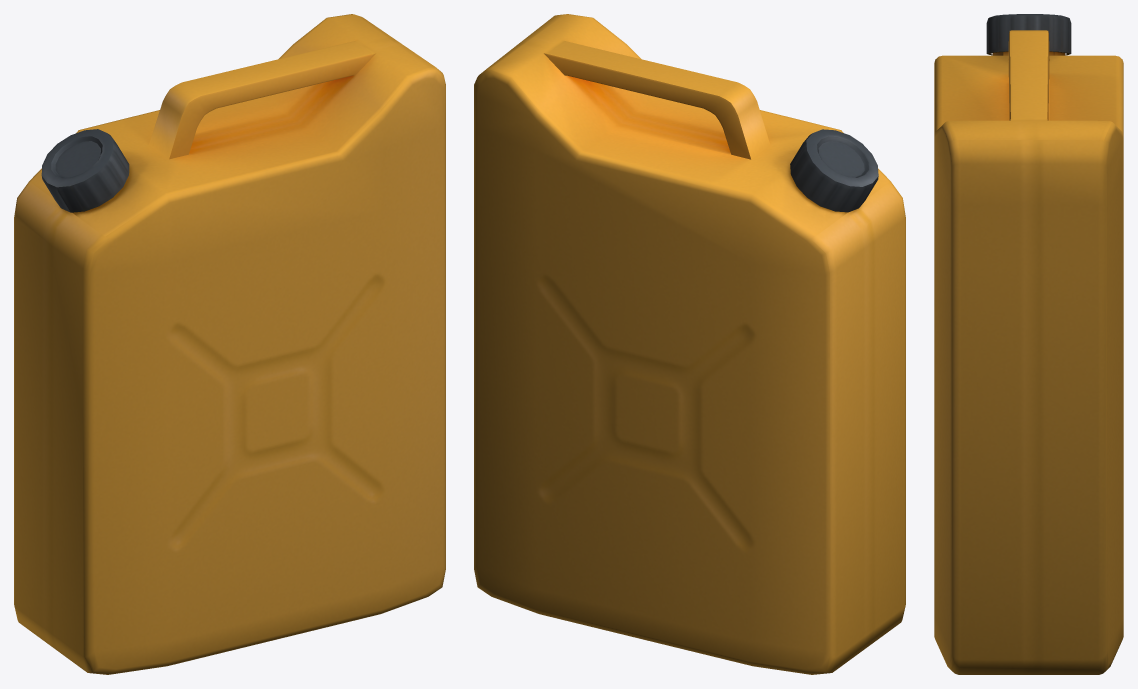
The model's file is jerrycan.gltf.
3 renders of one model, left to right at view 1: azimuth 30°, elevation 25°; view 2: azimuth 150°, elevation 25°; view 3: azimuth 270°, elevation 25°, orthographic.
Parts seen in each view (by area): view 1: jerry can, cap; view 2: jerry can, cap; view 3: jerry can, cap.
Part boxes in pixels (x1,y1,x2,y2): jerry can: [14, 14, 445, 674]; cap: [41, 129, 129, 212]; jerry can: [474, 14, 905, 674]; cap: [790, 129, 878, 212]; jerry can: [934, 30, 1123, 674]; cap: [986, 14, 1071, 55].
Bounding box in the file's own units: 0.3618 × 0.5034 × 0.16.
Materials: 2 (2 with a texture image).
